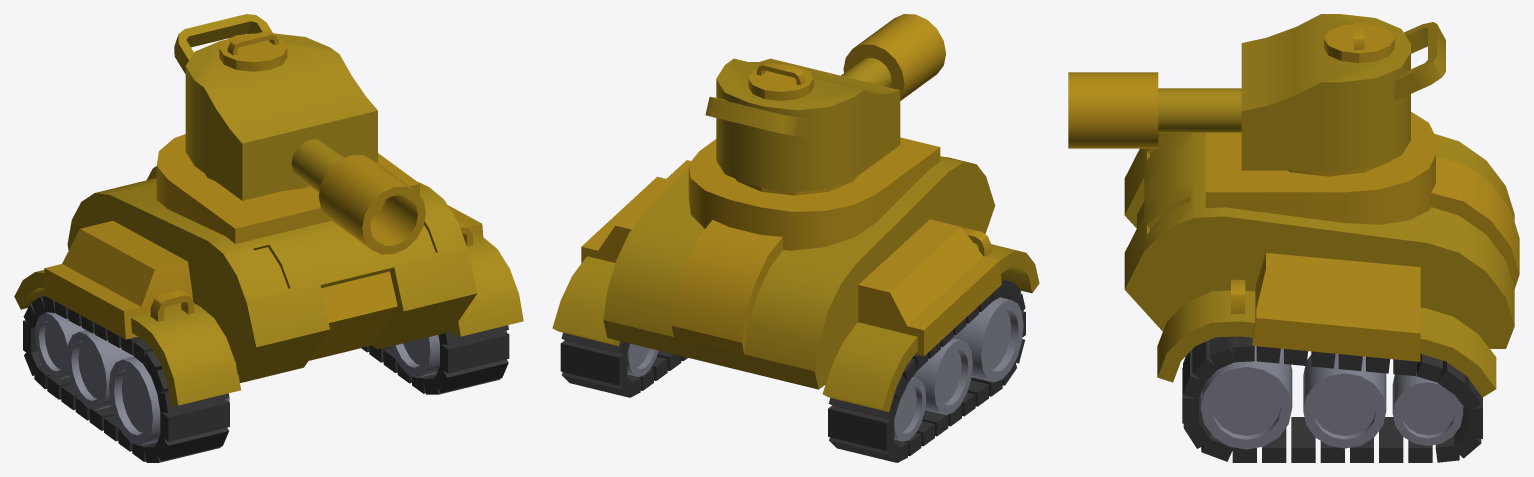
File: tank-a.glb
3 renders of one model, left to right at view 1: azimuth 30°, elevation 25°; view 2: azimuth 150°, elevation 25°; view 3: azimuth 270°, elevation 25°, orthographic. The views are drawn at different scales.
Visible parts, largest first — view 1: Tank; view 2: Tank; view 3: Tank.
Boxes of the visible parts, x1,y1,x2,y2 form: Tank: (14, 14, 523, 462); Tank: (552, 14, 1039, 462); Tank: (1068, 14, 1519, 462).
Bounding box in the file's own units: 2.37 × 2.14 × 2.5.
